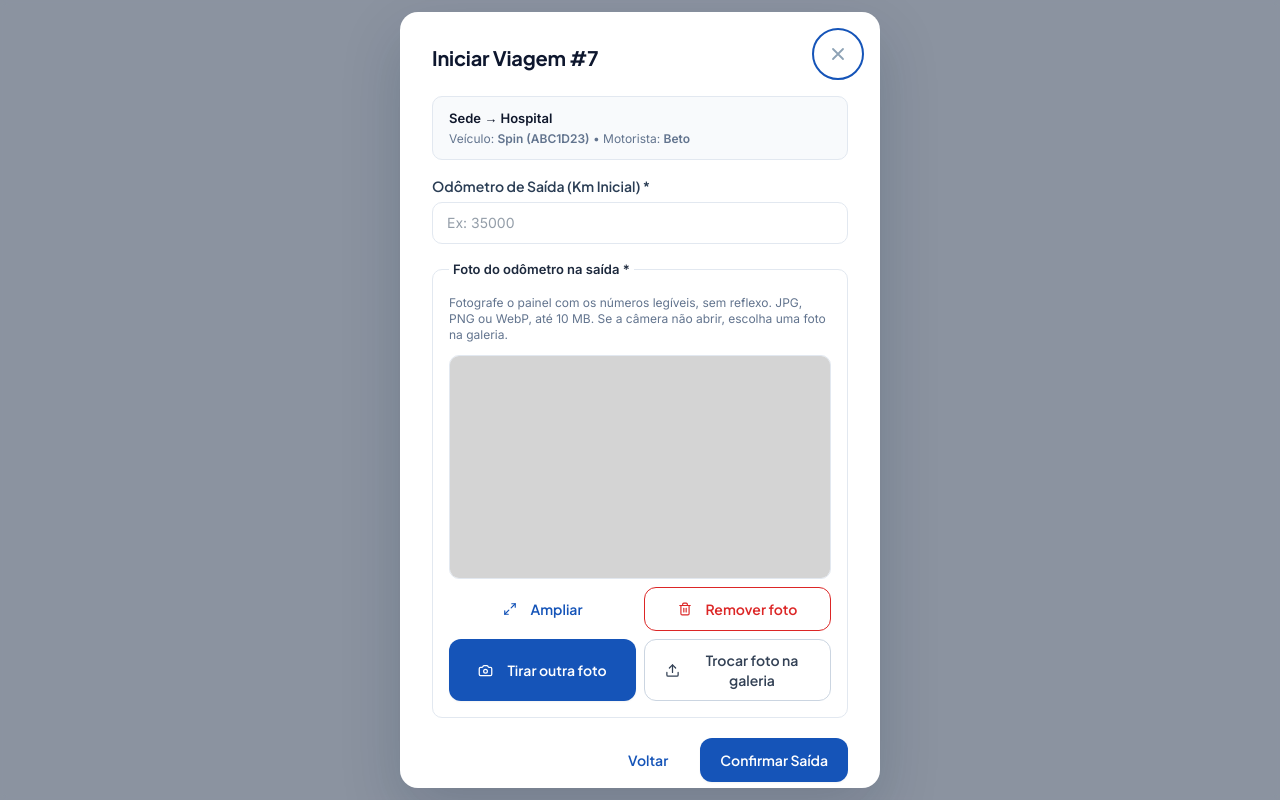
ModalIniciarViagem com foto do odômetro (SCRUM-205/214) › orienta a corrigir o odômetro fora do intervalo antes de enviar a foto
Earlier steps of the test are not shown.
Later steps or results of the test are not shown.
Type "7454757527" into the number field labelled "Odômetro de Saída (Km Inicial) *". click: [640, 222]
box: [432,202,848,244]
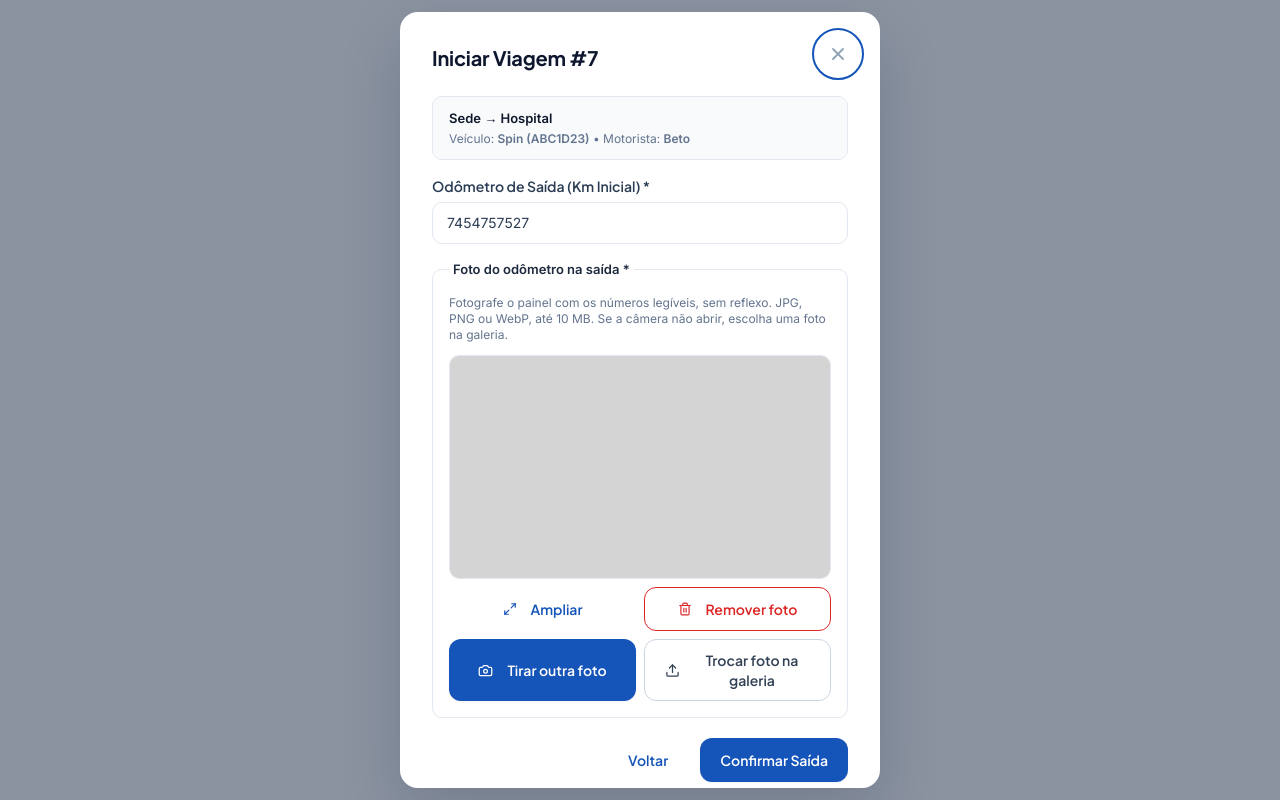
Click the button "Confirmar Saída". click: [774, 760]
box: [700,738,848,782]
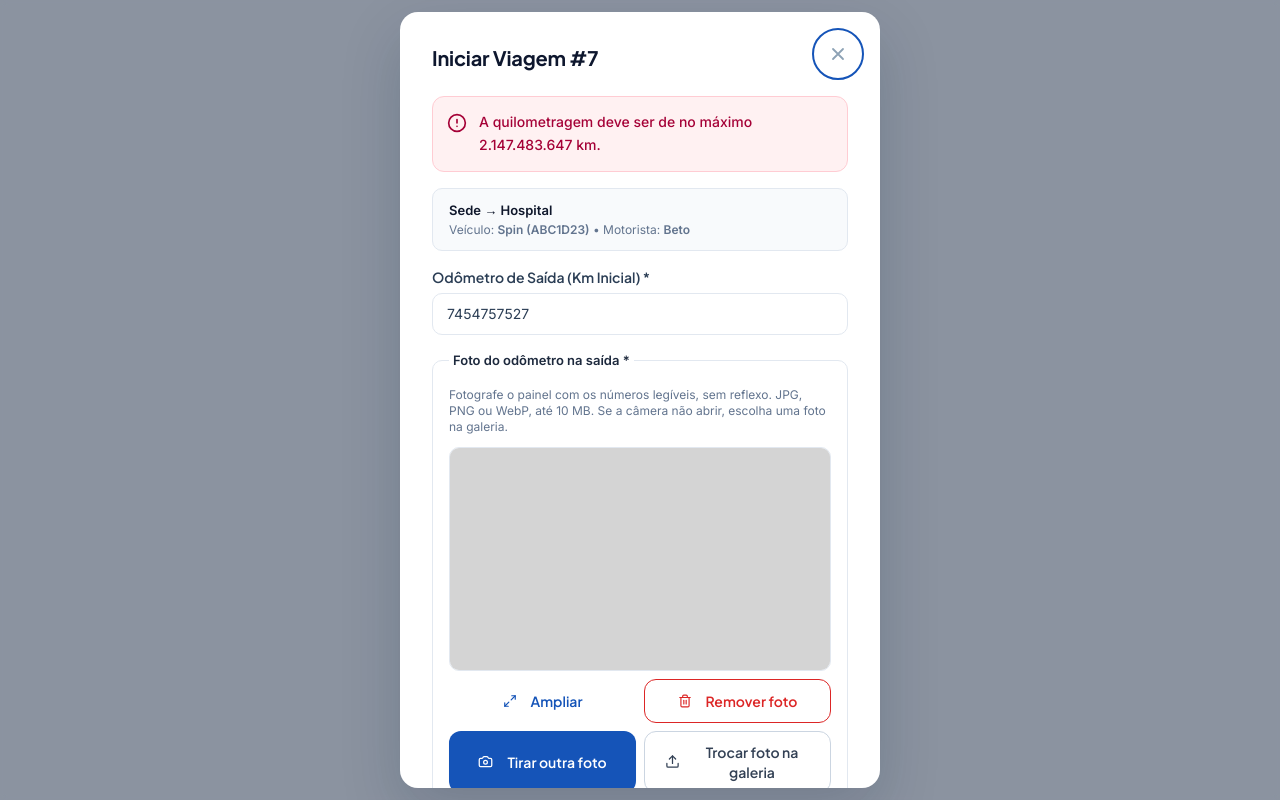
Check: the text "A quilometragem deve ser de no máximo 2.147.483.647 km." is shown, box [479,113,752,153]
